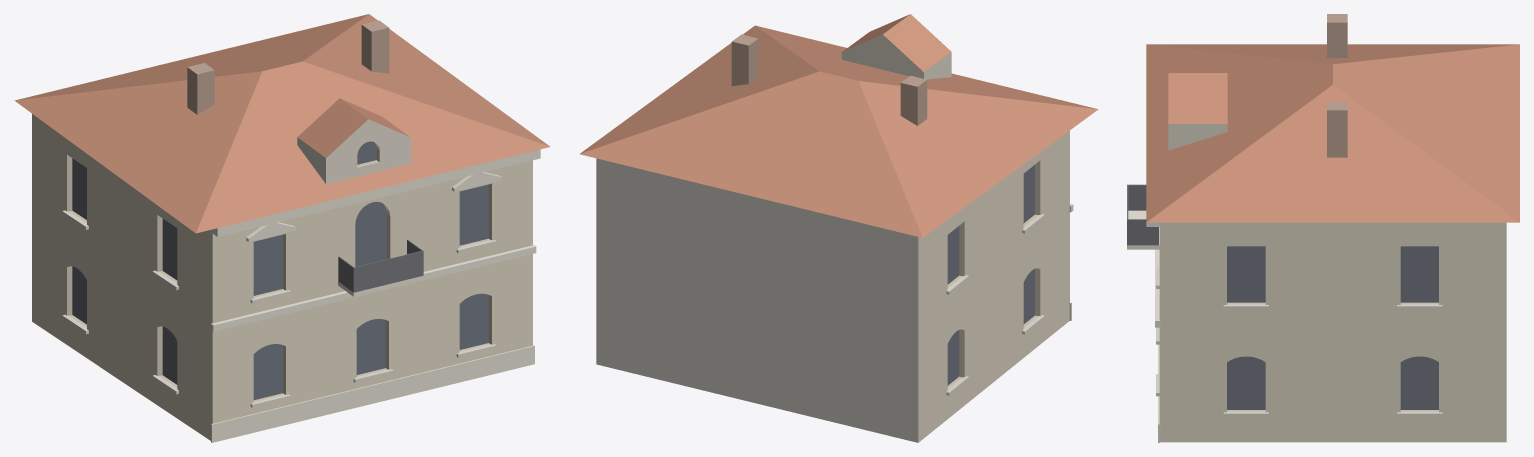
3 renders of one model, left to right at view 1: azimuth 30°, elevation 25°; view 2: azimuth 150°, elevation 25°; view 3: azimuth 270°, elevation 25°, orthographic. The views are drawn at different scales.
Visible parts, largest first — view 1: CP_995_Masonry, CP_995_Roof, CP_995_Dormer_gable, CP_995_Cornice_main_plinth_0, CP_995_Cornice_main_eave_0, CP_995_Cornice_main_string_0, CP_995_Balcony_0_rail_f, CP_995_Chimney_1, CP_995_Chimney_0, CP_995_Pediment_main_U1, CP_995_Pediment_main_U3; view 2: CP_995_Masonry, CP_995_Roof, CP_995_Dormer_gable, CP_995_Chimney_1, CP_995_Chimney_0; view 3: CP_995_Masonry, CP_995_Roof, CP_995_Dormer_gable, CP_995_Chimney_1, CP_995_Chimney_0, CP_995_Balcony_0_rail_r, CP_995_Balcony_0_rail_l.
Boxes of the visible parts, box(x1,y1,x2,y2) form: CP_995_Masonry: box(32, 114, 532, 440); CP_995_Roof: box(14, 14, 550, 233); CP_995_Dormer_gable: box(297, 98, 410, 184); CP_995_Cornice_main_plinth_0: box(211, 345, 534, 442); CP_995_Cornice_main_eave_0: box(211, 149, 540, 236); CP_995_Cornice_main_string_0: box(211, 245, 536, 331); CP_995_Balcony_0_rail_f: box(353, 250, 423, 292); CP_995_Chimney_1: box(361, 20, 389, 73); CP_995_Chimney_0: box(187, 63, 214, 114); CP_995_Pediment_main_U1: box(246, 222, 295, 241); CP_995_Pediment_main_U3: box(452, 172, 501, 191); CP_995_Masonry: box(596, 130, 1069, 442); CP_995_Roof: box(579, 25, 1098, 237); CP_995_Dormer_gable: box(841, 14, 951, 79); CP_995_Chimney_1: box(731, 34, 758, 85); CP_995_Chimney_0: box(900, 75, 927, 125); CP_995_Masonry: box(1159, 222, 1506, 442); CP_995_Roof: box(1146, 44, 1519, 222); CP_995_Dormer_gable: box(1168, 73, 1227, 150); CP_995_Chimney_1: box(1327, 101, 1347, 157); CP_995_Chimney_0: box(1327, 14, 1347, 57); CP_995_Balcony_0_rail_r: box(1128, 219, 1158, 245); CP_995_Balcony_0_rail_l: box(1128, 184, 1146, 210).
Bounding box in the file's own units: 14.24 × 11.2 × 13.27.
